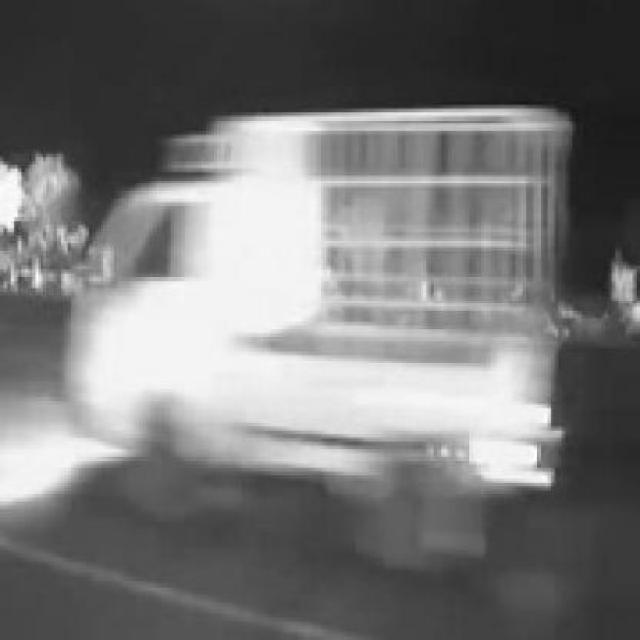vehicle: (43, 93, 597, 594)
